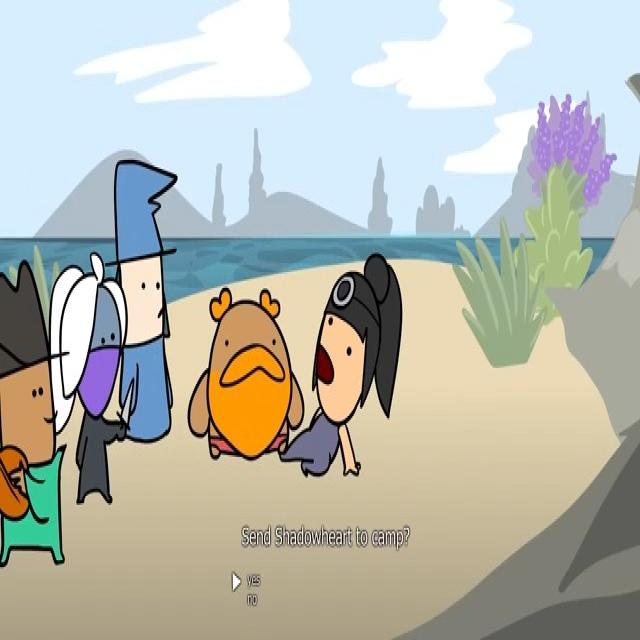Haagen-Daz: (187, 288, 305, 460)
Josh: (105, 159, 178, 443)
miss Demeanor: (48, 251, 127, 505)
